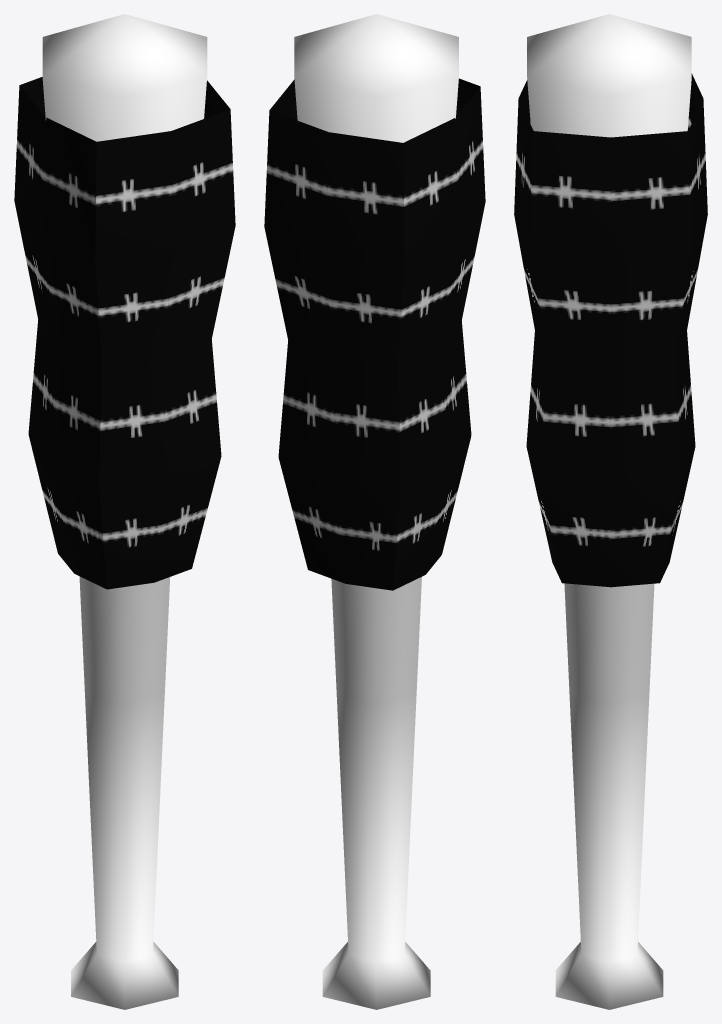
The model's file is Bat_Wired.fbx.
The picture shows the model from 3 angles, left to right: view 1: azimuth 30°, elevation 25°; view 2: azimuth 150°, elevation 25°; view 3: azimuth 270°, elevation 25°; orthographic projection.
Parts seen in each view (by area): view 1: Bat_Wired; view 2: Bat_Wired; view 3: Bat_Wired.
Part boxes in pixels (x1,y1,x2,y2): Bat_Wired: (14,14,235,1009); Bat_Wired: (264,14,485,1009); Bat_Wired: (514,14,707,1009).
Bounding box in the file's own units: 21.36 × 118 × 21.36.
1 material, 1 textured.
